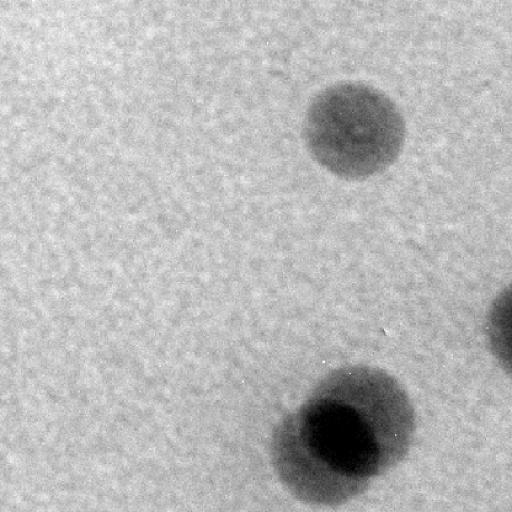Nanoparticles: (304, 364, 425, 476), (268, 401, 383, 505), (304, 78, 412, 186), (486, 283, 512, 382)
